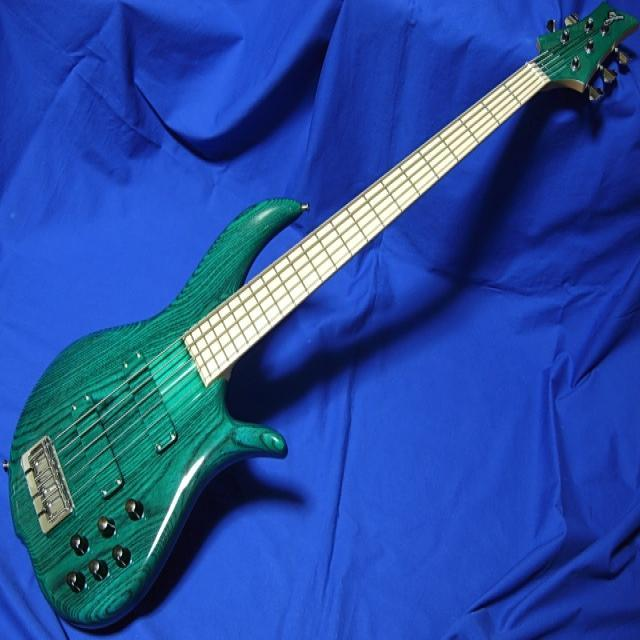bass: (7, 4, 637, 625)
